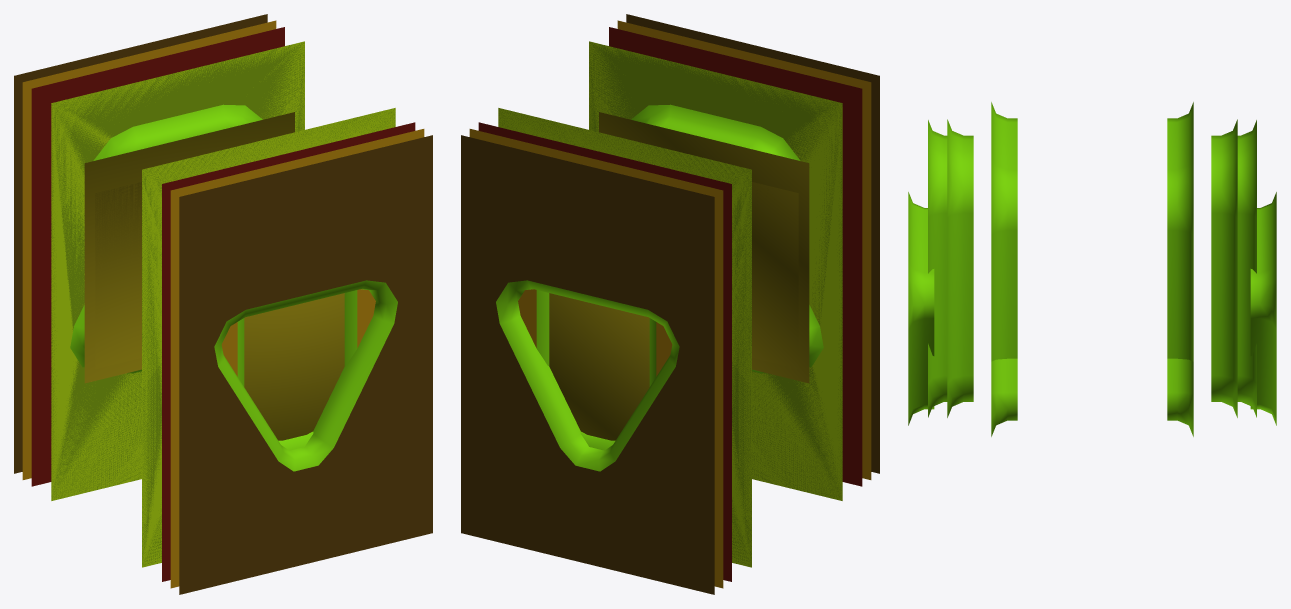
File: WindowFill.fbx
3 views of the same model, side by side, from view 1: azimuth 30°, elevation 25°; view 2: azimuth 150°, elevation 25°; view 3: azimuth 270°, elevation 25° (orthographic). The views are drawn at different scales.
Visible parts, largest first — view 1: WindowFill_06.06.06.06_02.03_Window_B_0, WindowFill_03.03.03.03_02.03_Window_F_0, WindowFill_05.05.05.05_02.03_Window_F_0, WindowFill_02.02.02.02_02.03_Window_F_0, WindowFill_05.05.05.05_02.03_Window_B_0, WindowFill_04.04.04.04_02.03_Window_B_0, WindowFill_03.03.03.03_02.03_Window_B_0, WindowFill_04.04.04.04_02.03_Window_F_0, WindowFill_06.06.06.06_02.03_Window_F_0, WindowFill_02.02.02.02_02.03_Window_B_0; view 2: WindowFill_06.06.06.06_02.03_Window_F_0, WindowFill_03.03.03.03_02.03_Window_B_0, WindowFill_05.05.05.05_02.03_Window_B_0, WindowFill_02.02.02.02_02.03_Window_B_0, WindowFill_05.05.05.05_02.03_Window_F_0, WindowFill_04.04.04.04_02.03_Window_F_0, WindowFill_03.03.03.03_02.03_Window_F_0, WindowFill_04.04.04.04_02.03_Window_B_0, WindowFill_06.06.06.06_02.03_Window_B_0, WindowFill_02.02.02.02_02.03_Window_F_0; view 3: WindowFill_02.02.02.02_02.03_Window_B_0, WindowFill_02.02.02.02_02.03_Window_F_0, WindowFill_03.03.03.03_02.03_Window_B_0, WindowFill_03.03.03.03_02.03_Window_F_0, WindowFill_04.04.04.04_02.03_Window_B_0, WindowFill_04.04.04.04_02.03_Window_F_0, WindowFill_06.06.06.06_02.03_Window_B_0, WindowFill_06.06.06.06_02.03_Window_F_0, WindowFill_05.05.05.05_02.03_Window_B_0, WindowFill_05.05.05.05_02.03_Window_F_0.
Part boxes in pixels (box(x1,y1,x2,y2)): WindowFill_06.06.06.06_02.03_Window_B_0: box(179, 135, 432, 594); WindowFill_03.03.03.03_02.03_Window_F_0: box(51, 41, 304, 500); WindowFill_05.05.05.05_02.03_Window_F_0: box(51, 41, 304, 500); WindowFill_02.02.02.02_02.03_Window_F_0: box(31, 27, 284, 486); WindowFill_05.05.05.05_02.03_Window_B_0: box(142, 108, 395, 567); WindowFill_04.04.04.04_02.03_Window_B_0: box(170, 129, 424, 588); WindowFill_03.03.03.03_02.03_Window_B_0: box(142, 108, 395, 566); WindowFill_04.04.04.04_02.03_Window_F_0: box(22, 20, 276, 479); WindowFill_06.06.06.06_02.03_Window_F_0: box(14, 14, 267, 473); WindowFill_02.02.02.02_02.03_Window_B_0: box(162, 122, 415, 581); WindowFill_06.06.06.06_02.03_Window_F_0: box(461, 135, 714, 594); WindowFill_03.03.03.03_02.03_Window_B_0: box(589, 41, 842, 500); WindowFill_05.05.05.05_02.03_Window_B_0: box(589, 41, 842, 500); WindowFill_02.02.02.02_02.03_Window_B_0: box(609, 27, 862, 486); WindowFill_05.05.05.05_02.03_Window_F_0: box(498, 108, 751, 567); WindowFill_04.04.04.04_02.03_Window_F_0: box(469, 129, 723, 588); WindowFill_03.03.03.03_02.03_Window_F_0: box(499, 108, 751, 566); WindowFill_04.04.04.04_02.03_Window_B_0: box(617, 20, 871, 479); WindowFill_06.06.06.06_02.03_Window_B_0: box(626, 14, 879, 473); WindowFill_02.02.02.02_02.03_Window_F_0: box(478, 122, 731, 581); WindowFill_02.02.02.02_02.03_Window_B_0: box(947, 119, 973, 417); WindowFill_02.02.02.02_02.03_Window_F_0: box(1211, 119, 1237, 417); WindowFill_03.03.03.03_02.03_Window_B_0: box(991, 102, 1017, 361); WindowFill_03.03.03.03_02.03_Window_F_0: box(1167, 102, 1193, 361); WindowFill_04.04.04.04_02.03_Window_B_0: box(928, 120, 947, 417); WindowFill_04.04.04.04_02.03_Window_F_0: box(1237, 120, 1256, 417); WindowFill_06.06.06.06_02.03_Window_B_0: box(908, 192, 934, 425); WindowFill_06.06.06.06_02.03_Window_F_0: box(1250, 192, 1276, 425); WindowFill_05.05.05.05_02.03_Window_B_0: box(991, 358, 1017, 436); WindowFill_05.05.05.05_02.03_Window_F_0: box(1167, 358, 1193, 436).
Size of the model in its own units: 500 by 750 by 565.
